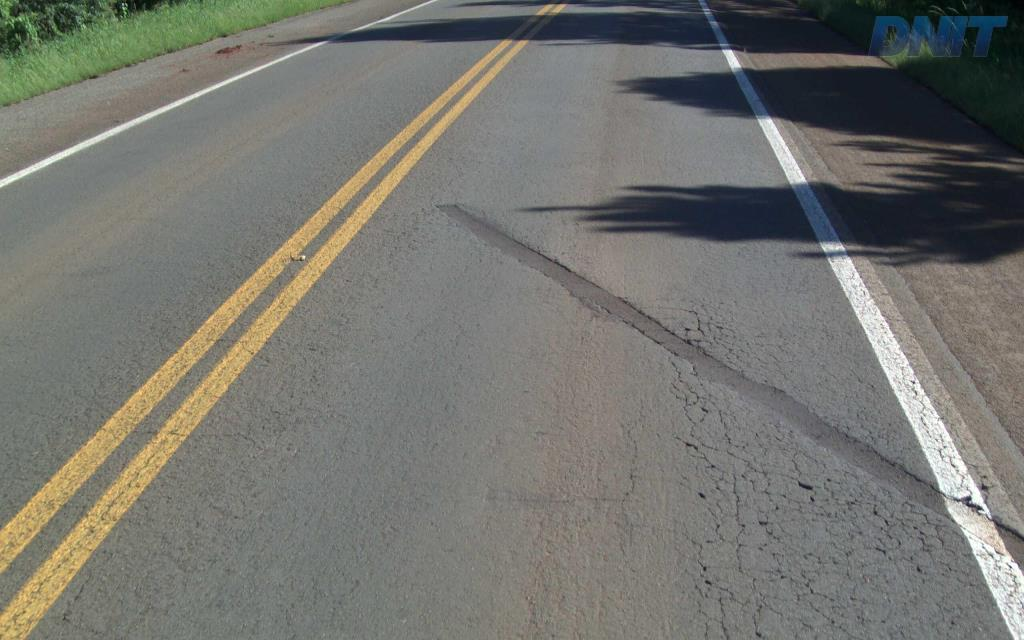pothole: (435, 198, 956, 534)
